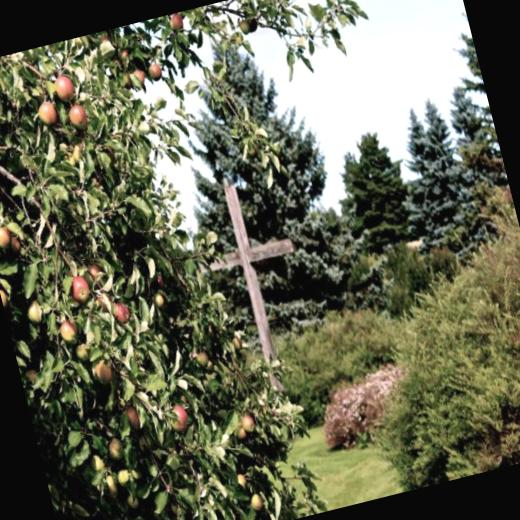Apple: (0, 189, 180, 520), (28, 67, 125, 199), (76, 20, 166, 100), (167, 404, 191, 432), (192, 346, 212, 370), (247, 490, 268, 512), (167, 12, 184, 34), (232, 421, 248, 441), (240, 413, 256, 432), (236, 473, 250, 491), (253, 452, 267, 469), (247, 17, 260, 32), (238, 18, 250, 34), (154, 292, 165, 309), (232, 334, 244, 348), (233, 32, 244, 44), (157, 277, 165, 290)
